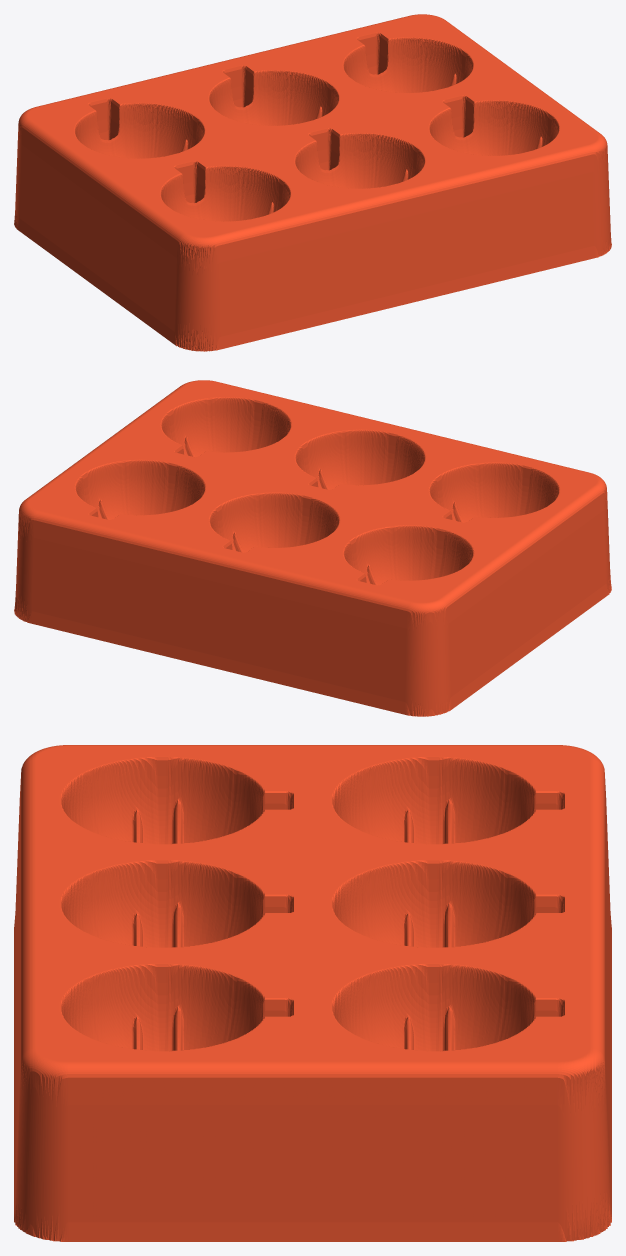
Rendered from mold.glb.
3 renders of one model, top to bottom at view 1: azimuth 30°, elevation 25°; view 2: azimuth 150°, elevation 25°; view 3: azimuth 270°, elevation 25°, orthographic. The views are drawn at different scales.
Visible parts, largest first — view 1: geometry_0; view 2: geometry_0; view 3: geometry_0.
Boxes of the visible parts, x1,y1,x2,y2 form: geometry_0: (14, 14, 611, 351); geometry_0: (14, 380, 611, 716); geometry_0: (14, 745, 611, 1241).
Size of the model in its own units: 0.1315 by 0.0314 by 0.0996.
